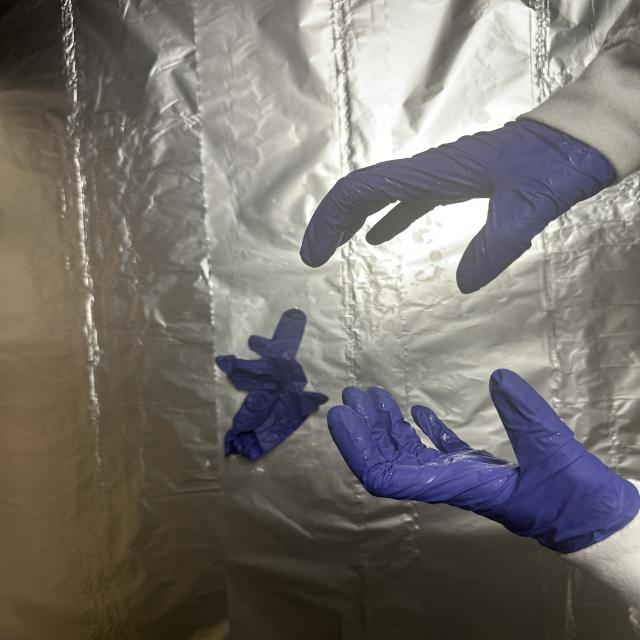gloves_contaminated: (328, 370, 640, 554), (301, 120, 615, 294)
